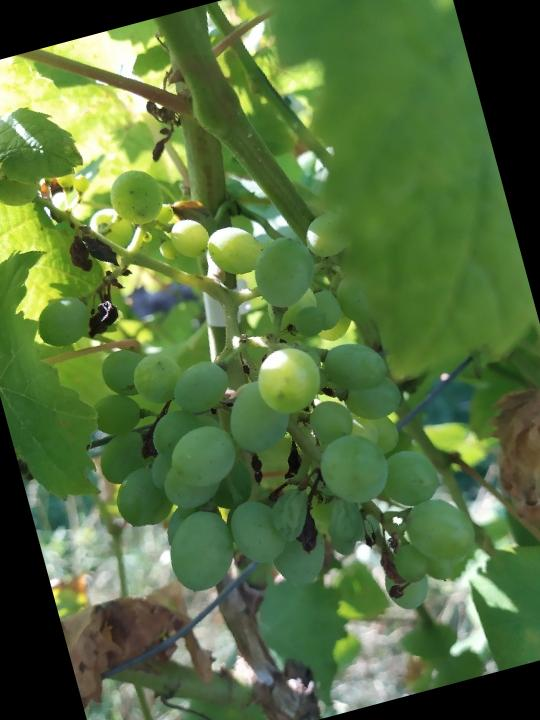grape: (0, 72, 495, 693)
